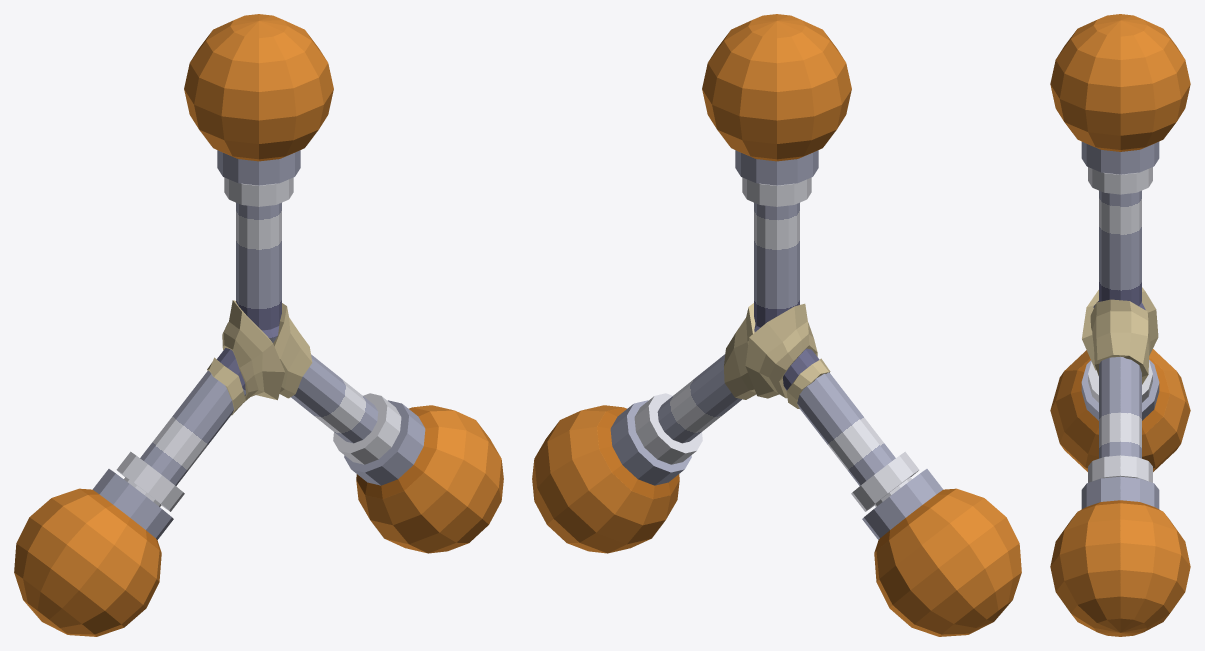
Rendered from stickybomb.fbx.
3 renders of one model, left to right at view 1: azimuth 30°, elevation 25°; view 2: azimuth 150°, elevation 25°; view 3: azimuth 270°, elevation 25°, orthographic. The views are drawn at different scales.
Parts seen in each view (by area): view 1: Cylinder.005, Cylinder, Cube, Cylinder.002, Cylinder.001, Cube.001; view 2: Cylinder, Cylinder.002, Cylinder.001, Cylinder.005, Cube, Cube.001; view 3: Cylinder, Cylinder.005, Cylinder.001, Cylinder.002, Cube.001, Cube.
Part boxes in pixels (x1,y1,x2,y2): Cylinder.005: (14,332,503,636); Cylinder: (184,14,333,342); Cube: (207,300,285,415); Cylinder.002: (14,349,226,634); Cylinder.001: (291,354,454,552); Cube.001: (273,303,312,397); Cylinder: (702,14,851,332); Cylinder.002: (783,348,1021,636); Cylinder.001: (532,354,741,553); Cylinder.005: (581,317,1019,623); Cube: (745,303,830,408); Cube.001: (724,303,756,399); Cylinder: (1050,14,1190,309); Cylinder.005: (1050,299,1166,636); Cylinder.001: (1087,356,1190,636); Cylinder.002: (1067,349,1190,471); Cube.001: (1090,300,1150,384); Cube: (1082,287,1158,370).
Bounding box in the file's own units: 2355 × 2709 × 648.
Materials: 2 (2 with a texture image).
